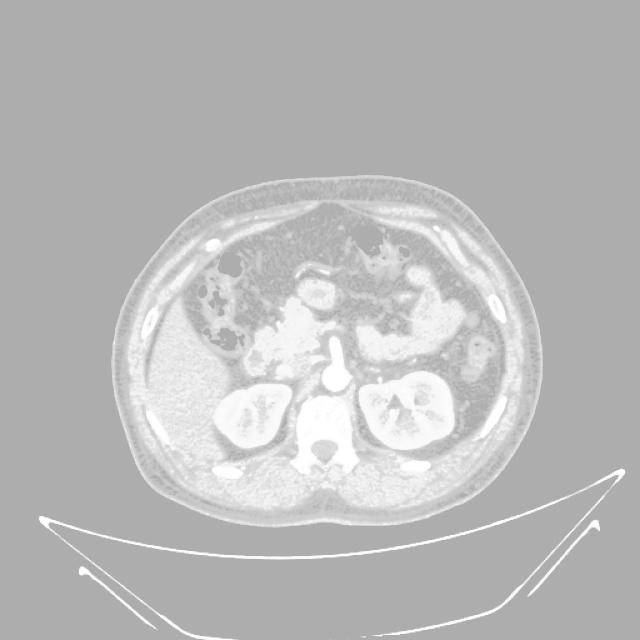NORMAL: (109, 191, 543, 507)
